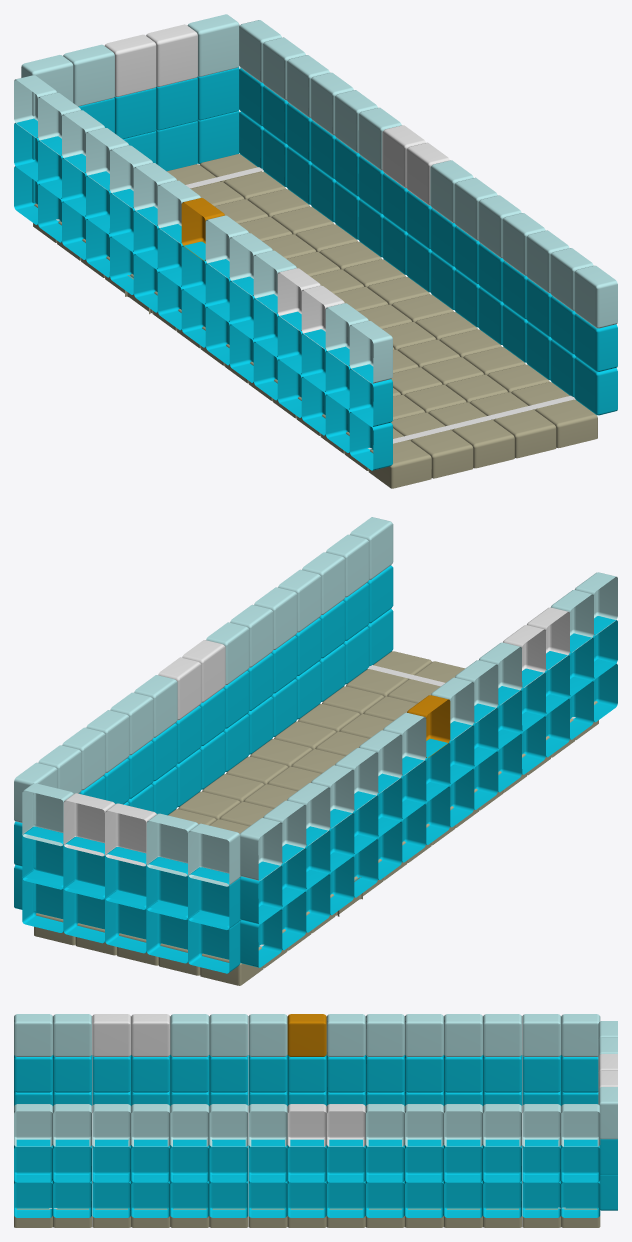
File: stage1.fbx
The picture shows the model from 3 angles, top to bottom: view 1: azimuth 30°, elevation 25°; view 2: azimuth 150°, elevation 25°; view 3: azimuth 270°, elevation 25°; orthographic projection. The views are drawn at different scales.
Visible parts, largest first — view 1: polySurface468, polySurface465, polySurface462, polySurface471, polySurface449, polySurface350, polySurface526, polySurface485, polySurface438, polySurface316, yuka8, yuka5 (+127 smaller); view 2: polySurface407, polySurface461, polySurface460, polySurface464, polySurface470, polySurface467, polySurface473, polySurface462, polySurface468, polySurface525, polySurface465, polySurface523 (+104 smaller); view 3: polySurface500, polySurface403, polySurface517, polySurface495, polySurface499, polySurface405, polySurface496, polySurface497, polySurface498, polySurface435, polySurface430, polySurface436 (+100 smaller).
Boxes of the visible parts, x1,y1,x2,y2 form: polySurface468: (146,24,197,86); polySurface465: (104,34,156,96); polySurface462: (63,44,114,106); polySurface471: (187,14,239,76); polySurface449: (574,265,617,328); polySurface350: (349,407,392,470); polySurface526: (349,321,392,383); polySurface485: (349,364,392,426); polySurface438: (574,314,617,371); polySurface316: (574,357,617,415); yuka8: (411,430,473,478); yuka5: (494,409,556,458); polySurface407: (188,910,240,973); polySurface461: (188,823,240,886); polySurface460: (188,867,240,929); polySurface464: (146,900,188,963); polySurface470: (63,880,105,943); polySurface467: (105,890,146,953); polySurface473: (22,870,63,932); polySurface462: (146,813,198,876); polySurface468: (63,793,115,856); polySurface525: (240,905,282,967); polySurface465: (105,803,156,866); polySurface523: (240,818,282,880); polySurface500: (365,1014,404,1056); polySurface403: (92,1014,131,1056); polySurface517: (522,1014,561,1056); polySurface495: (131,1014,170,1056); polySurface499: (326,1014,365,1056); polySurface405: (287,1014,326,1056); polySurface496: (170,1014,209,1056); polySurface497: (209,1014,248,1056); polySurface498: (248,1014,287,1056); polySurface435: (326,1175,365,1217); polySurface430: (131,1175,170,1217); polySurface436: (365,1175,404,1217).
Bounding box in the file's own units: 58.9 × 35.42 × 155.
